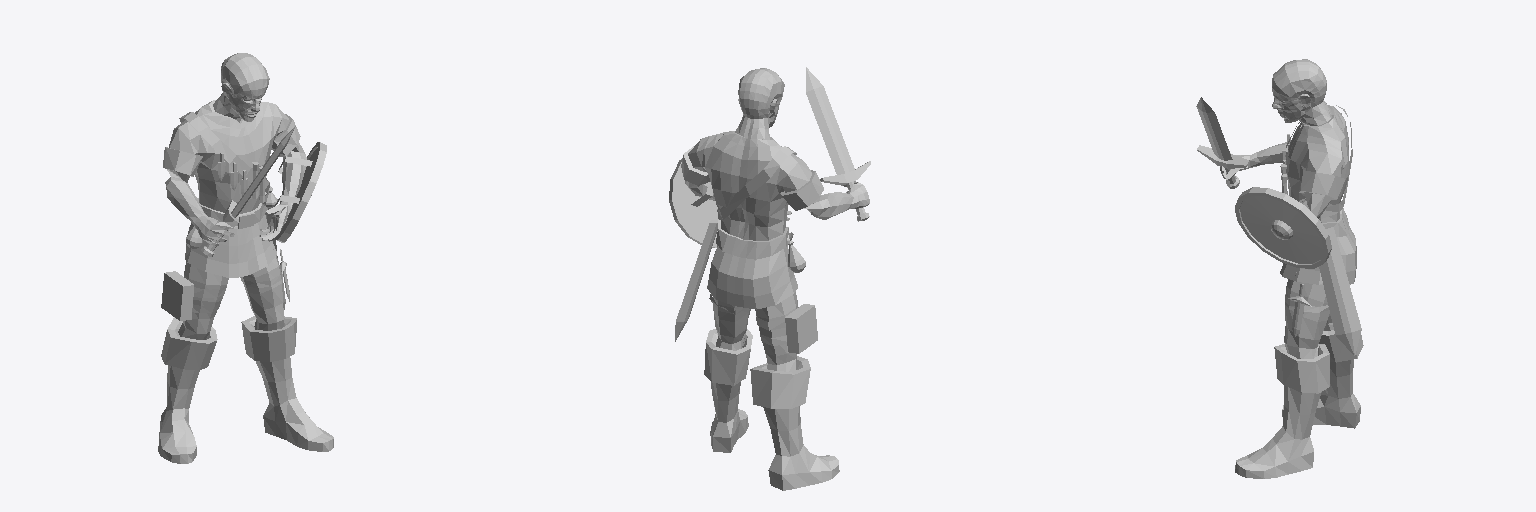
File: char_anim_000168.obj
3 renders of one model, left to right at view 1: azimuth 30°, elevation 25°; view 2: azimuth 150°, elevation 25°; view 3: azimuth 270°, elevation 25°, orthographic.
Parts seen in each view (by area): view 1: Body.001, Funda.001_LegBag, Shield, Sword, Bandolera; view 2: Body.001, Sword, Shield, Funda.001_LegBag, Sheat, Bandolera; view 3: Body.001, Shield, Sheat, Sword, LegKnife.
Boxes of the visible parts, x1=… form: Body.001: x1=158, y1=53, x2=333, y2=463; Funda.001_LegBag: x1=161, y1=271, x2=226, y2=320; Shield: x1=274, y1=142, x2=326, y2=242; Sword: x1=201, y1=126, x2=295, y2=256; Bandolera: x1=179, y1=112, x2=269, y2=192; Body.001: x1=681, y1=68, x2=869, y2=490; Sword: x1=806, y1=67, x2=870, y2=221; Shield: x1=669, y1=159, x2=718, y2=247; Funda.001_LegBag: x1=756, y1=304, x2=817, y2=353; Sheat: x1=675, y1=220, x2=717, y2=341; Bandolera: x1=717, y1=146, x2=796, y2=220; Body.001: x1=1220, y1=59, x2=1363, y2=478; Shield: x1=1235, y1=187, x2=1331, y2=268; Sheat: x1=1319, y1=227, x2=1361, y2=355; Sword: x1=1196, y1=97, x2=1249, y2=188; LegKnife: x1=1285, y1=284, x2=1328, y2=337.
Bounding box in the file's own units: 0.9757 × 2.26 × 0.8849.